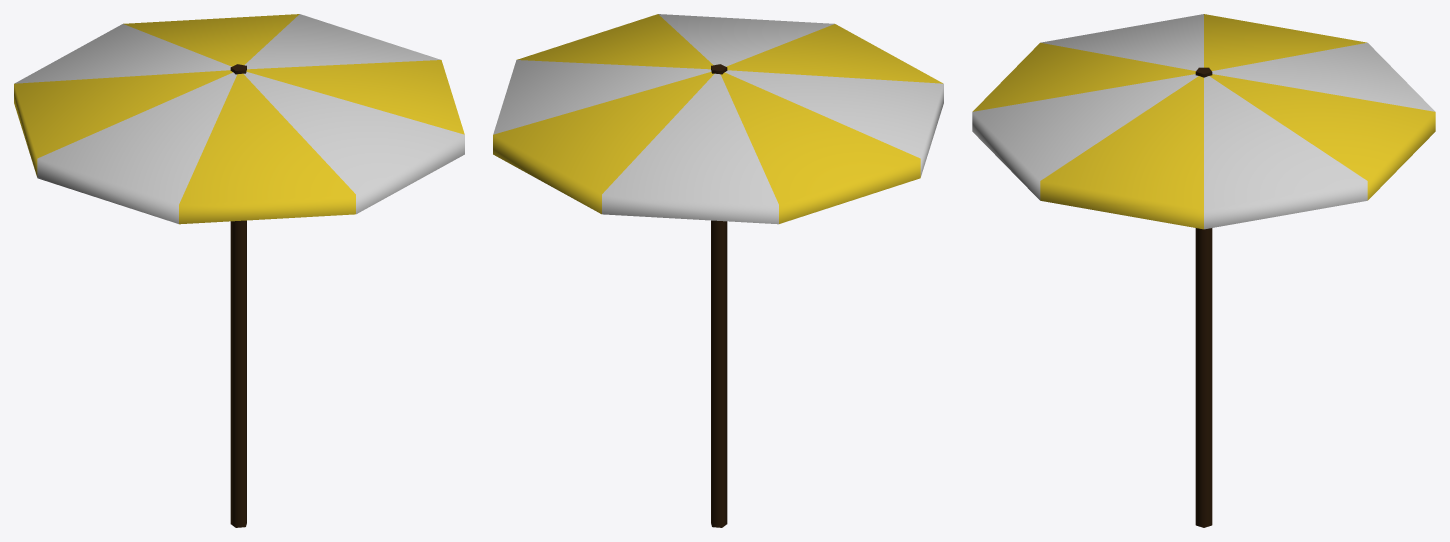
File: SM_Parasol.fbx
3 renders of one model, left to right at view 1: azimuth 30°, elevation 25°; view 2: azimuth 150°, elevation 25°; view 3: azimuth 270°, elevation 25°, orthographic.
Visible parts, largest first — view 1: ParasolTop, ParasolPole; view 2: ParasolTop, ParasolPole; view 3: ParasolTop, ParasolPole.
Boxes of the visible parts, left/top/right/bottom form: ParasolTop: left=14, top=14, right=464, bottom=224; ParasolPole: left=230, top=64, right=246, bottom=527; ParasolTop: left=493, top=14, right=943, bottom=224; ParasolPole: left=711, top=64, right=727, bottom=527; ParasolTop: left=972, top=14, right=1435, bottom=229; ParasolPole: left=1195, top=67, right=1212, bottom=527.
Bounding box in the file's own units: 214 × 231 × 214.
